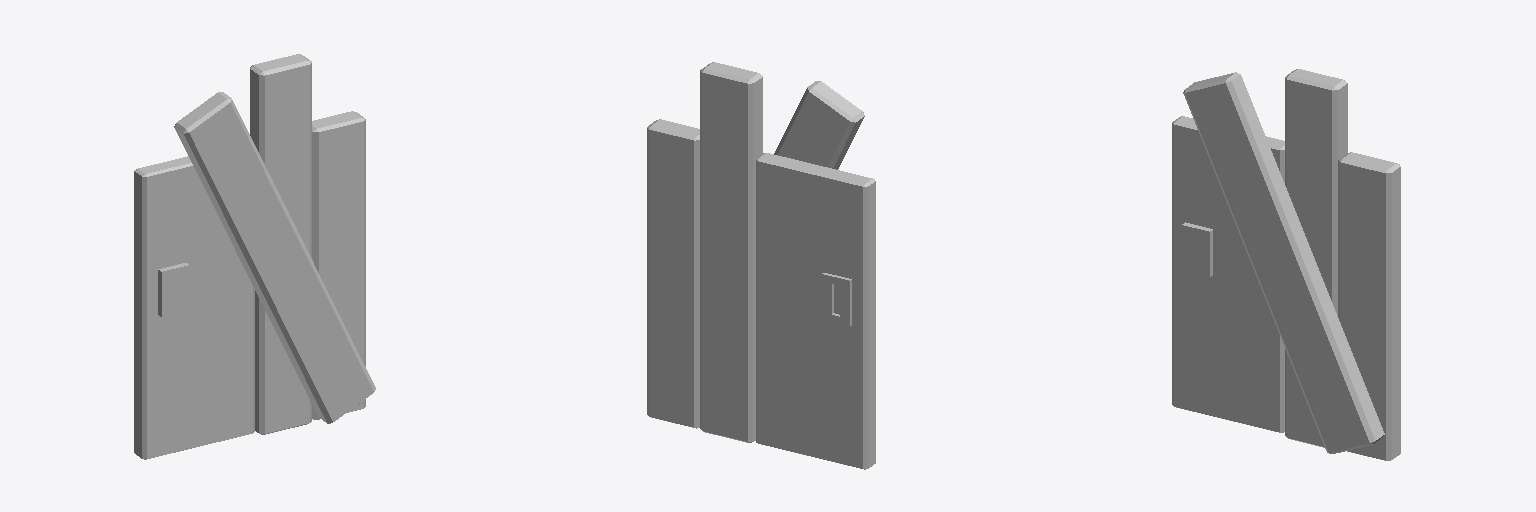
File: Door2.obj
The picture shows the model from 3 angles: view 1: azimuth 30°, elevation 25°; view 2: azimuth 150°, elevation 25°; view 3: azimuth 330°, elevation 25°; orthographic projection.
Parts seen in each view (by area): view 1: Door2; view 2: Door2; view 3: Door2.
Part boxes in pixels (bbox=[...]): Door2: bbox=[134, 54, 375, 459]; Door2: bbox=[647, 62, 875, 469]; Door2: bbox=[1172, 69, 1400, 460].
Bounding box in the file's own units: 7.87 × 12.33 × 1.75.